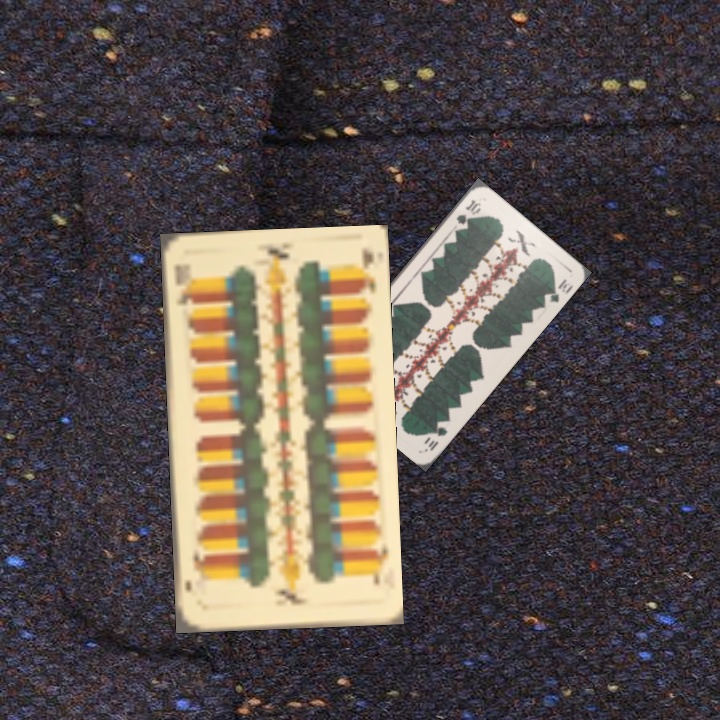E10: (171, 261, 196, 307), (370, 539, 392, 588)
G10: (452, 195, 484, 227), (422, 421, 450, 454)
